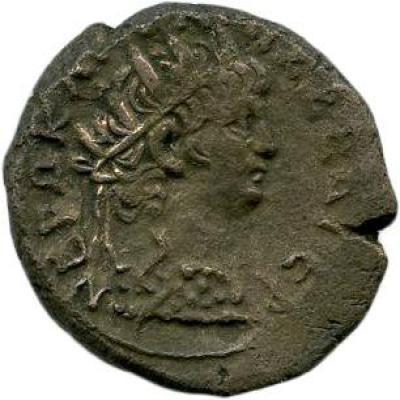numismatics: (3, 4, 397, 399)
